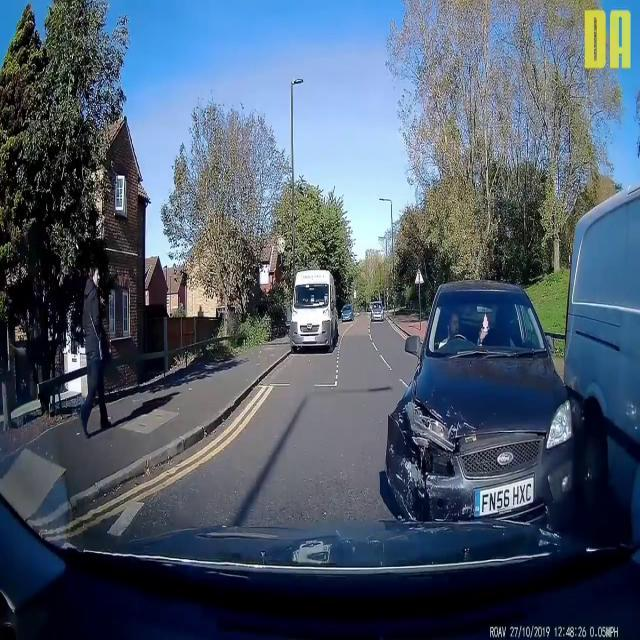multiple_accident: (380, 256, 640, 513)
normal: (283, 251, 353, 376)
